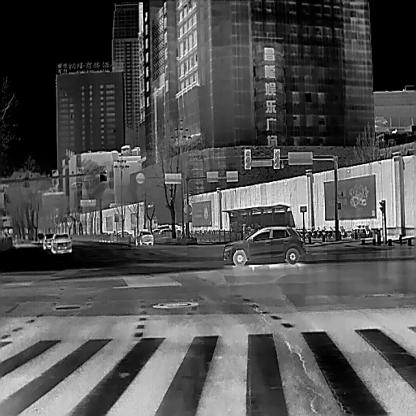car: (222, 223, 306, 266), (50, 233, 72, 254), (134, 228, 154, 244), (41, 232, 54, 249), (36, 232, 43, 242)
